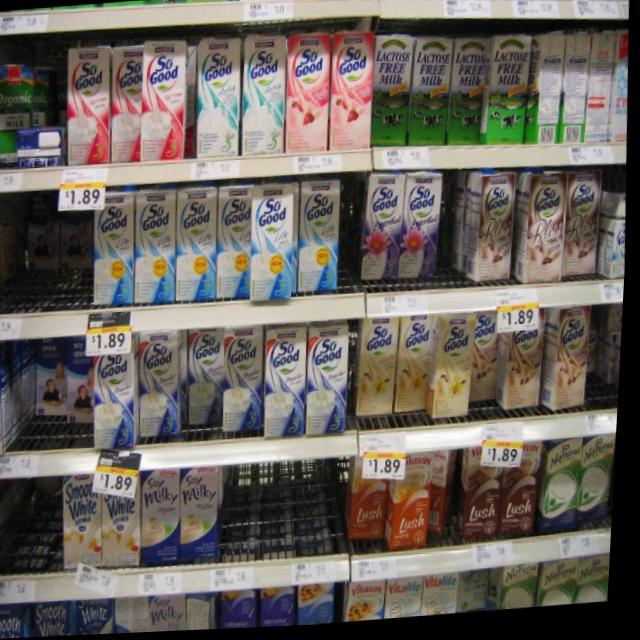q262: (132, 180, 185, 326), (173, 173, 230, 308), (246, 189, 303, 322), (298, 178, 348, 309), (215, 182, 261, 309), (95, 190, 142, 303)
